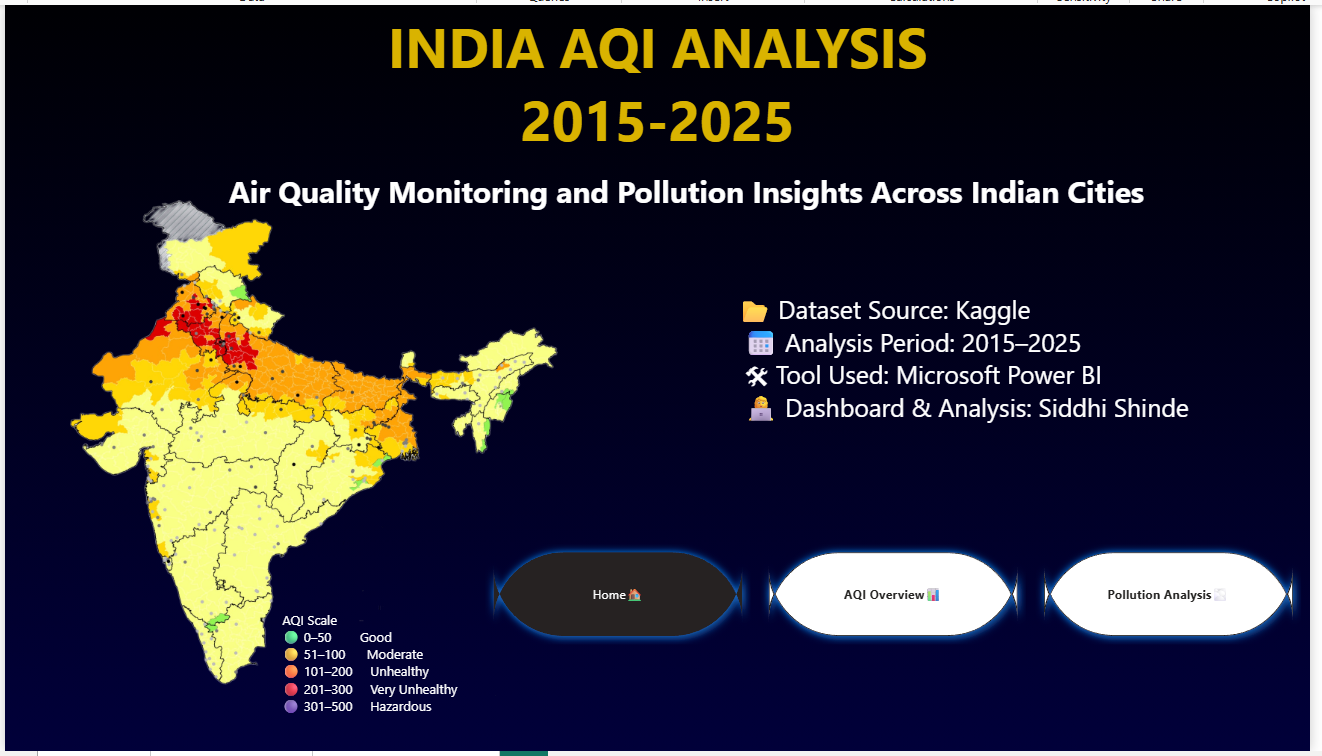

Layout of this report page (visuals, bound fields, positions):
{"tool":"powerbi","page":{"name":"Home🏠","canvas":[1400,800],"ordinal":0},"visuals":[{"type":"pageNavigator","box":[510.7,559,875.3,108.6],"z":0},{"type":"image","box":[0,159.5,689,640.8],"z":1000},{"type":"textbox","box":[0,0,1399.5,226.5],"z":2000},{"type":"textbox","box":[780.2,303,553.6,193],"z":3000},{"type":"textbox","box":[292.2,644.8,244,126],"z":4000}]}

Visuals, with their boxes on the page's 1400x800 design canvas (x1, y1, x2, y2). These are canvas units, not pixel positions in the 1322x756 screenshot, which may show the page scaled, cropped or inside an application window:
pageNavigator: 511, 559, 1386, 668
image: 0, 160, 689, 800
textbox: 0, 0, 1400, 226
textbox: 780, 303, 1334, 496
textbox: 292, 645, 536, 771
